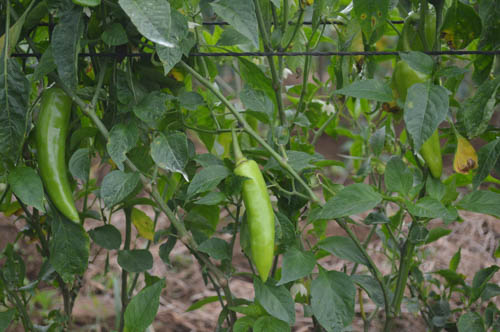ChiliPepper: (36, 89, 85, 222), (397, 59, 442, 175), (235, 160, 274, 285), (401, 11, 435, 54)
